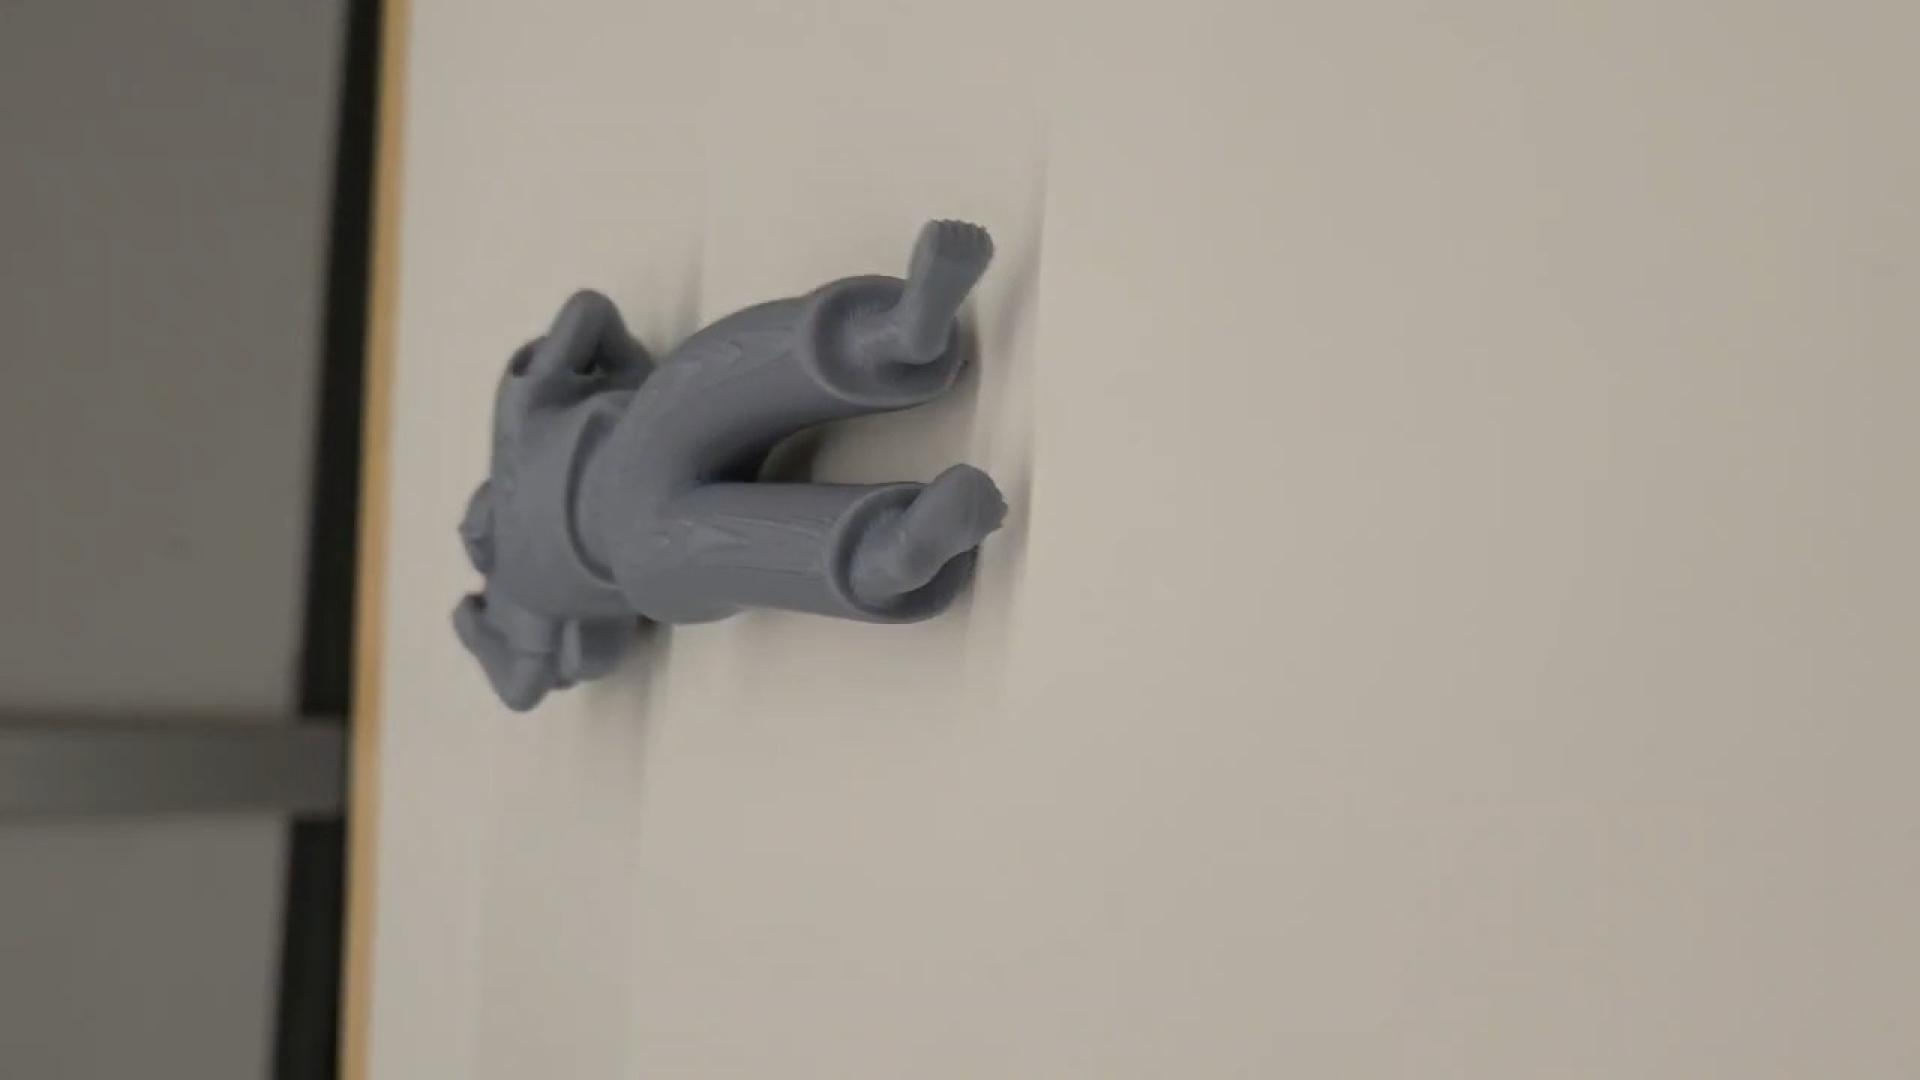Bad-style: (439, 216, 1006, 711)
